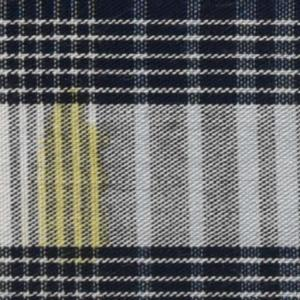Stain: (33, 85, 113, 266)
